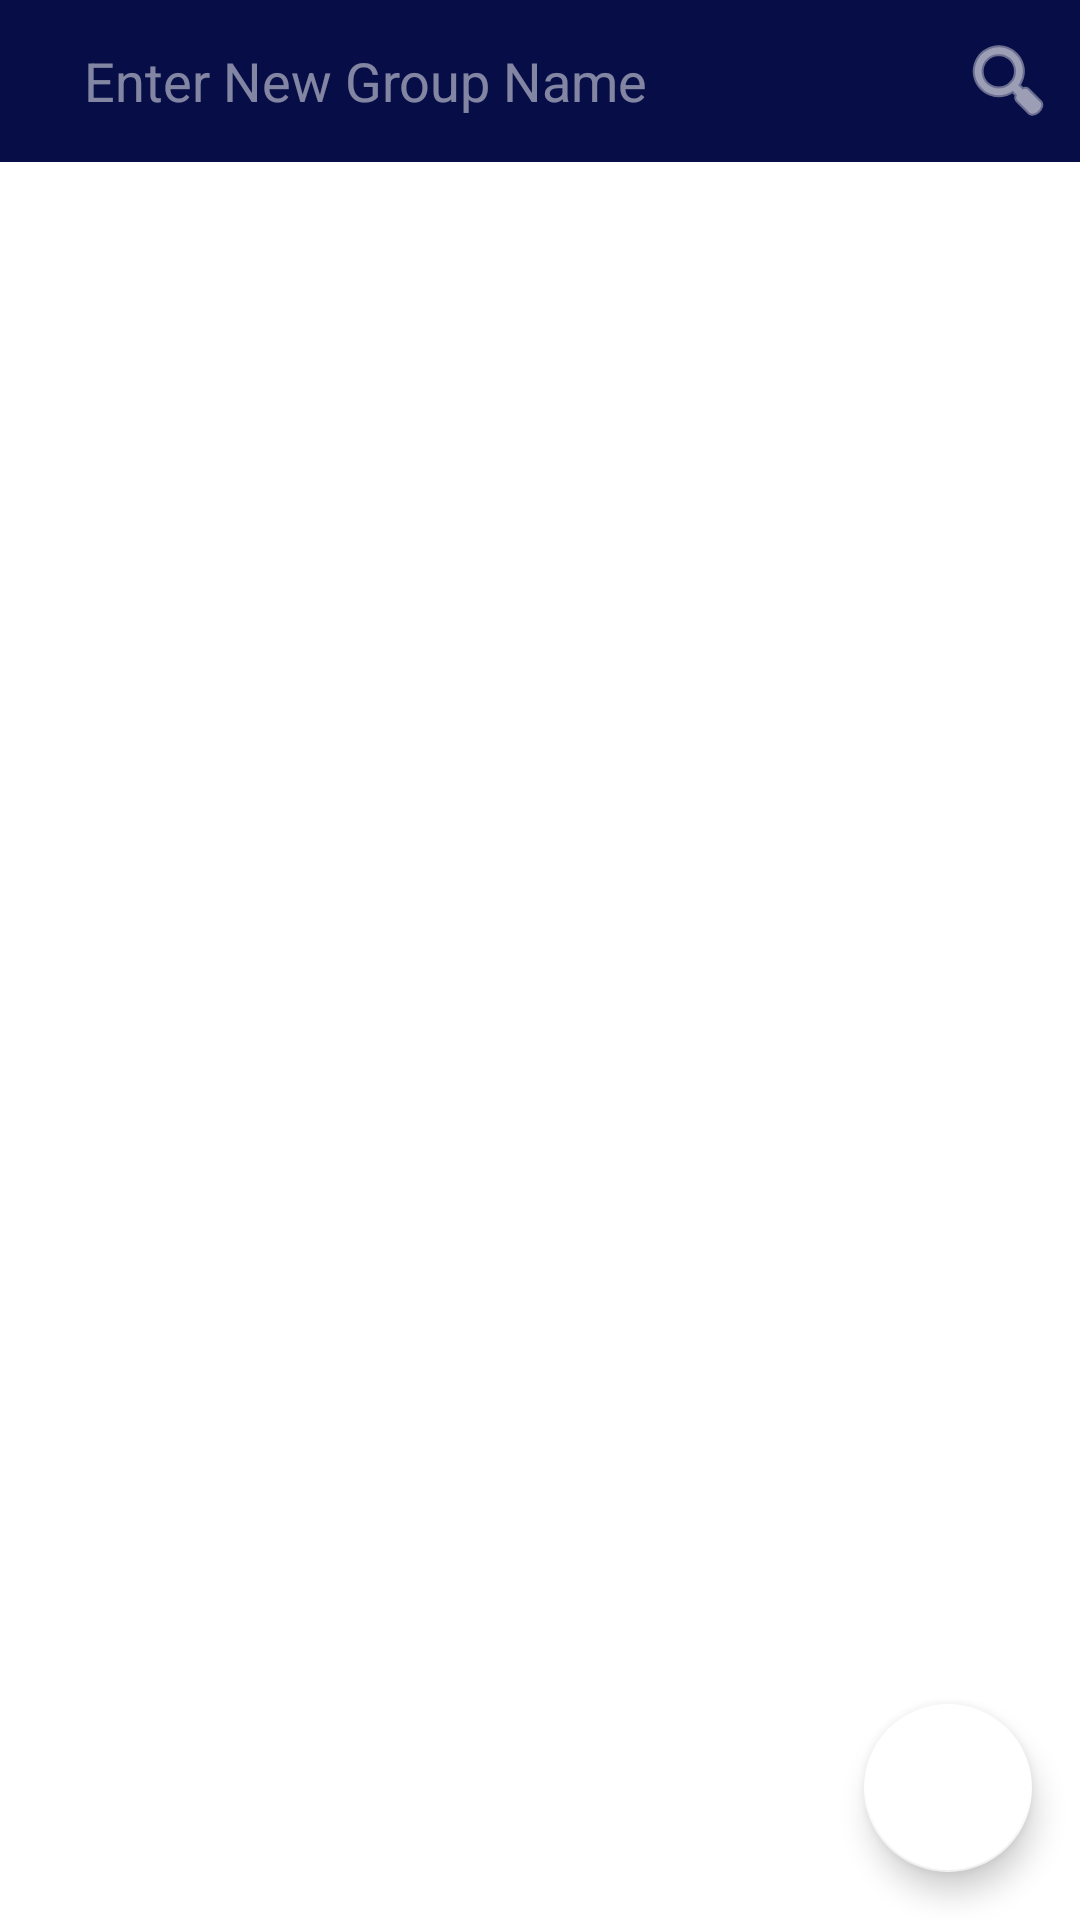

Where to tap for icons on this 1080w x 1920h app screen, as [x,y]:
search: [1008,80]
